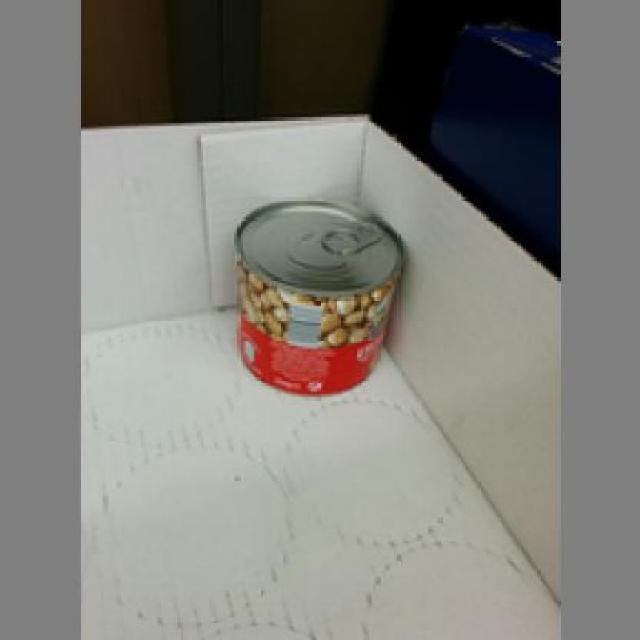Nuts: (228, 194, 406, 397)
